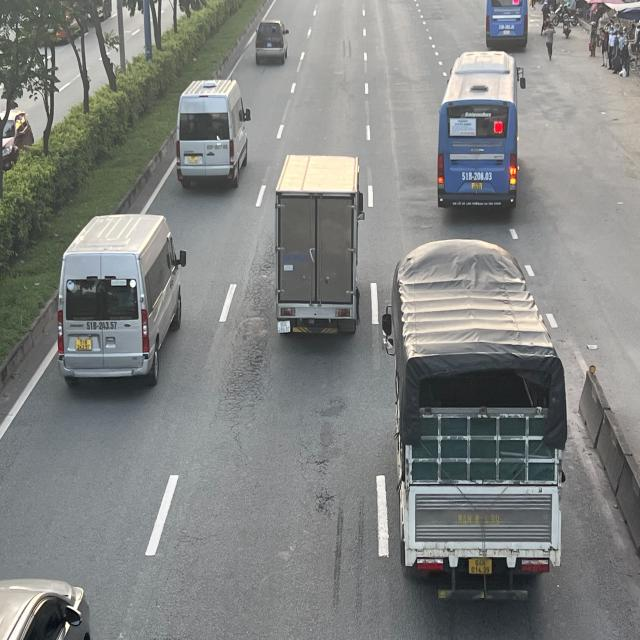car: (257, 19, 290, 66)
coach: (436, 52, 522, 215), (484, 0, 530, 49)
truck: (383, 239, 565, 598), (276, 153, 368, 337)
van: (60, 210, 190, 386), (175, 80, 252, 191)
